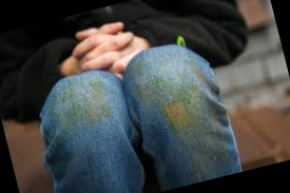earth: (153, 72, 205, 132), (58, 82, 107, 125)
